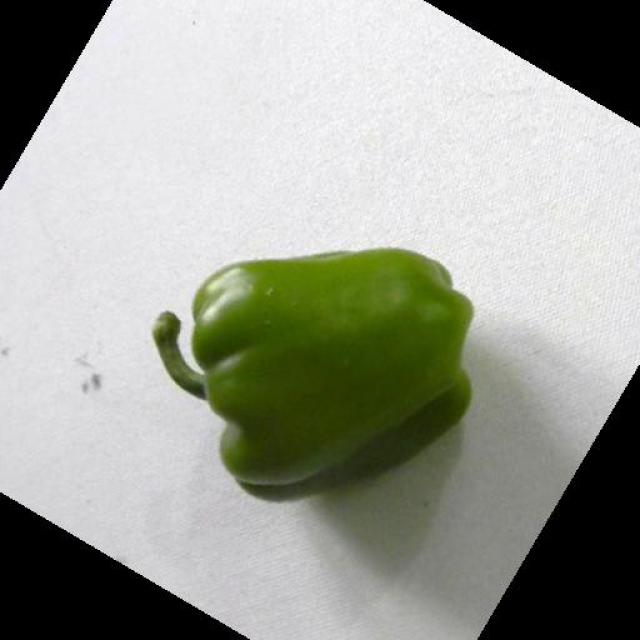Fresh_Capsicum: (168, 282, 476, 456)
